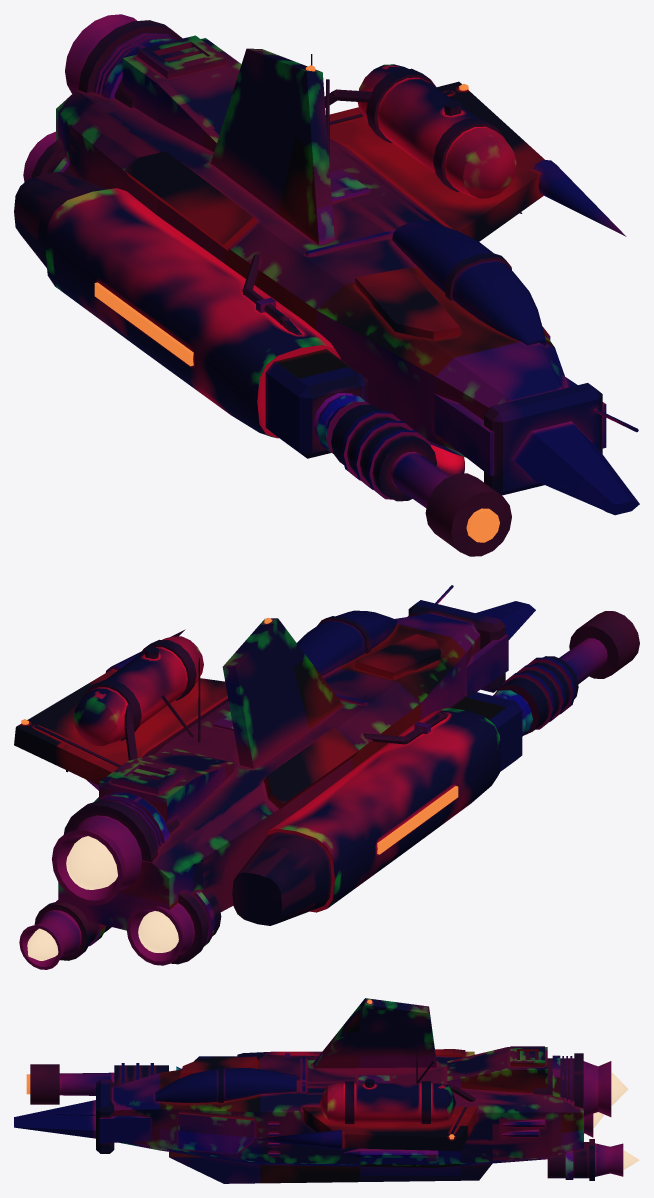
The model's file is scrap_raider.glb.
3 views of the same model, one above another, from view 1: azimuth 30°, elevation 25°; view 2: azimuth 150°, elevation 25°; view 3: azimuth 270°, elevation 25° (orthographic). The views are drawn at different scales.
Visible parts, largest first — view 1: scrap_raider; view 2: scrap_raider; view 3: scrap_raider.
Part boxes in pixels (x1=…): scrap_raider: x1=14, y1=14, x2=639, y2=556; scrap_raider: x1=14, y1=585, x2=639, y2=969; scrap_raider: x1=14, y1=998, x2=639, y2=1183.
Size of the model in its own units: 2.94 by 2.14 by 6.86.
12 materials, 10 textured.
